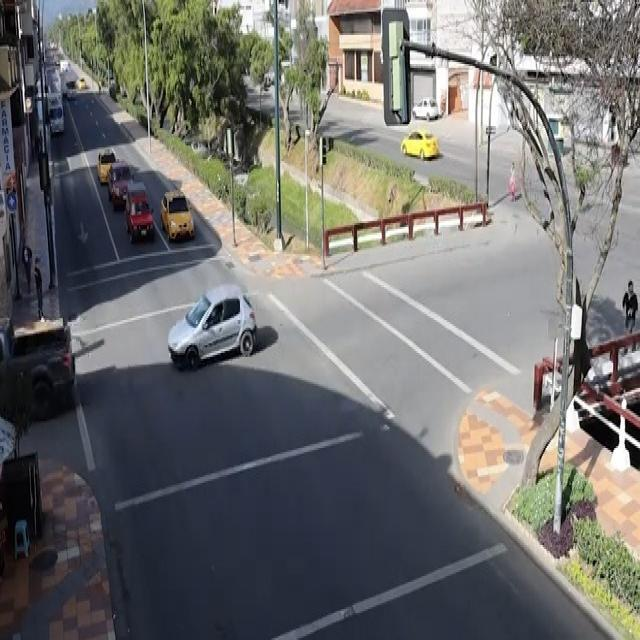CMT: (0, 321, 77, 426), (126, 180, 153, 240), (108, 161, 131, 206)
SED: (164, 289, 264, 376)
